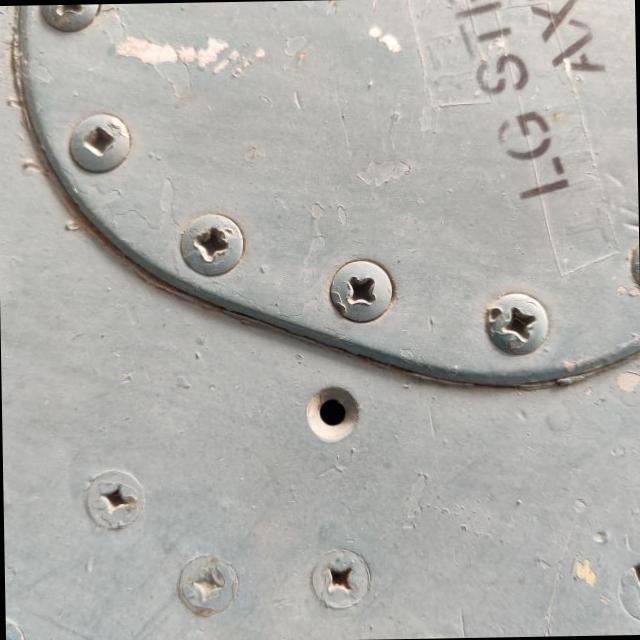Fastener Damage: (271, 353, 393, 470)
